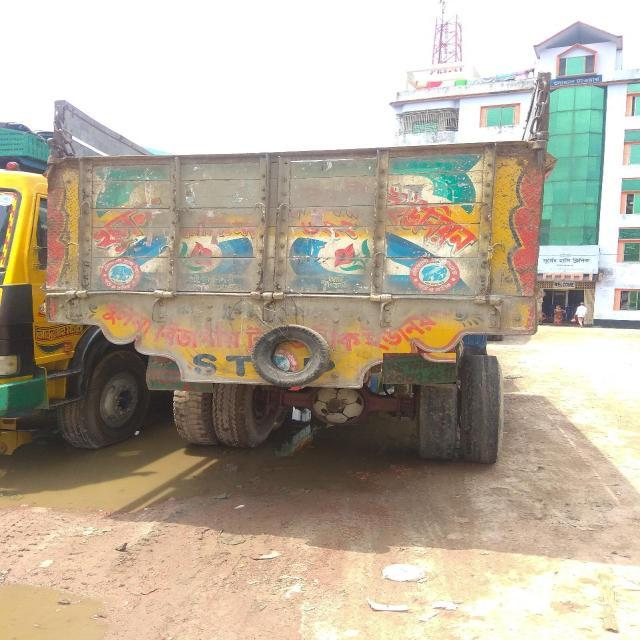numberplate: (383, 353, 456, 384)
